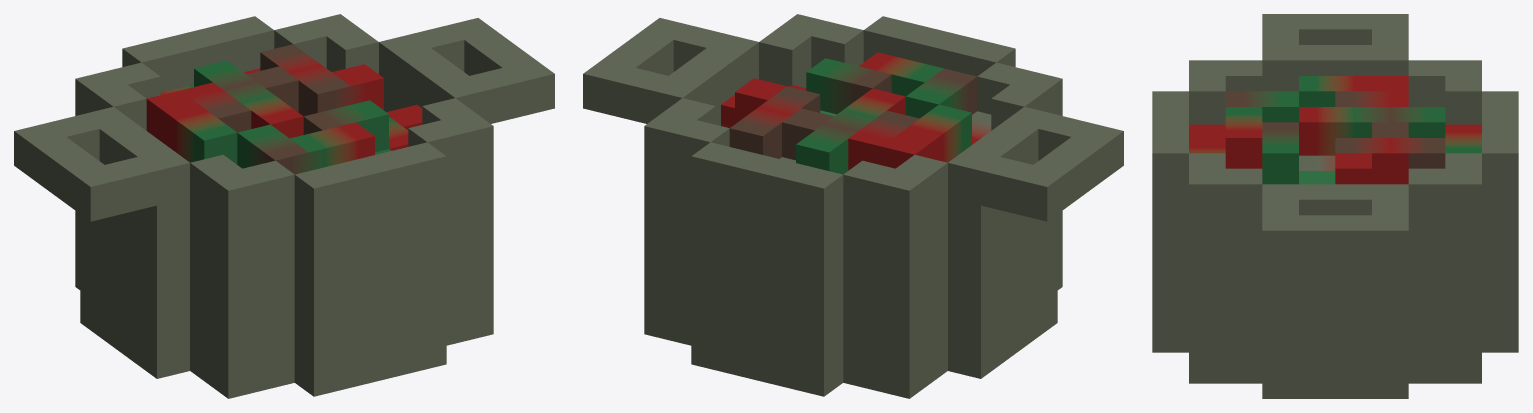
The model's file is Pot_Stew_00.fbx.
The picture shows the model from 3 angles, left to right: view 1: azimuth 30°, elevation 25°; view 2: azimuth 150°, elevation 25°; view 3: azimuth 270°, elevation 25°; orthographic projection. The views are drawn at different scales.
Visible parts, largest first — view 1: Pot_Stew_00; view 2: Pot_Stew_00; view 3: Pot_Stew_00.
Boxes of the visible parts, x1,y1,x2,y2 form: Pot_Stew_00: [14, 14, 554, 398]; Pot_Stew_00: [583, 14, 1123, 398]; Pot_Stew_00: [1152, 14, 1518, 398].
Size of the model in its own units: 70 by 30 by 50.
